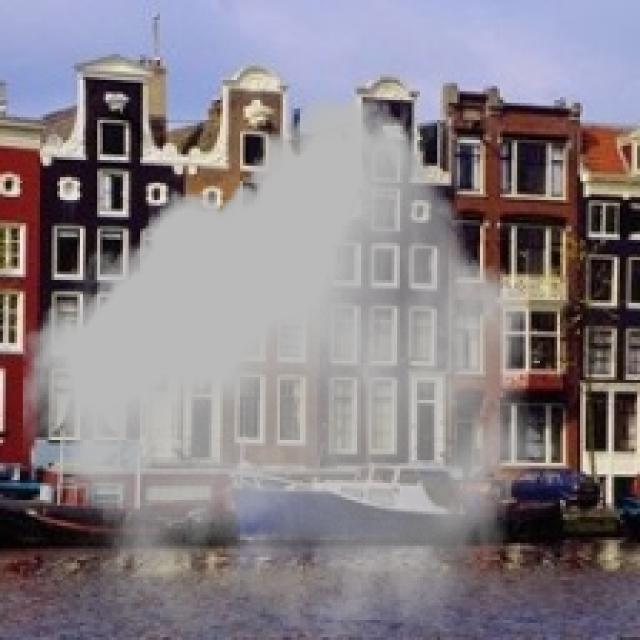smoke: (23, 97, 537, 637)
